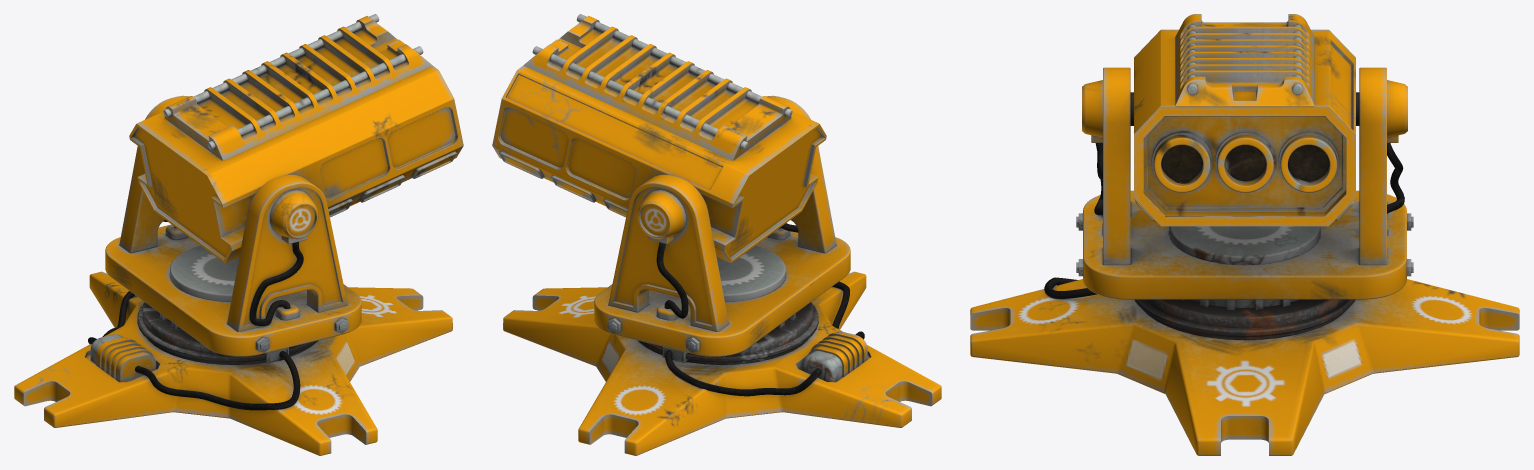
File: Turret_Orange.glb
The picture shows the model from 3 angles, left to right: view 1: azimuth 30°, elevation 25°; view 2: azimuth 150°, elevation 25°; view 3: azimuth 270°, elevation 25°; orthographic projection. The views are drawn at different scales.
Parts seen in each view (by area): view 1: Top Turret, Base.001, Base.002; view 2: Top Turret, Base.001, Base.002; view 3: Base.001, Top Turret, Base.002.
Boxes of the visible parts, <box> form: Top Turret: <box>129,14,463,263</box>; Base.001: <box>14,271,452,455</box>; Base.002: <box>105,95,361,356</box>; Top Turret: <box>492,14,826,263</box>; Base.001: <box>503,271,941,455</box>; Base.002: <box>594,95,850,356</box>; Base.001: <box>970,277,1519,455</box>; Top Turret: <box>1130,14,1359,226</box>; Base.002: <box>1076,67,1413,299</box>.
Size of the model in its own units: 4.34 by 3.06 by 4.34.
Materials: 1 (1 with a texture image).
